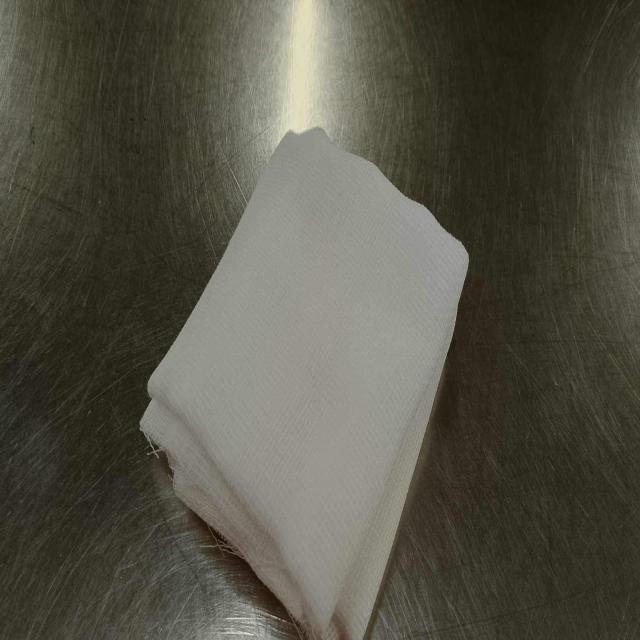Infectious: (138, 123, 470, 638)
Sharps: (214, 138, 250, 212)
